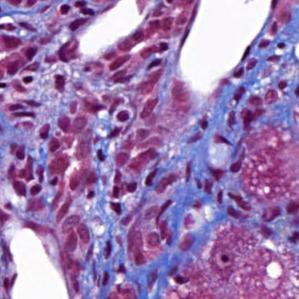inflammation: (194, 162, 245, 211), (137, 35, 174, 74), (104, 105, 139, 142)
